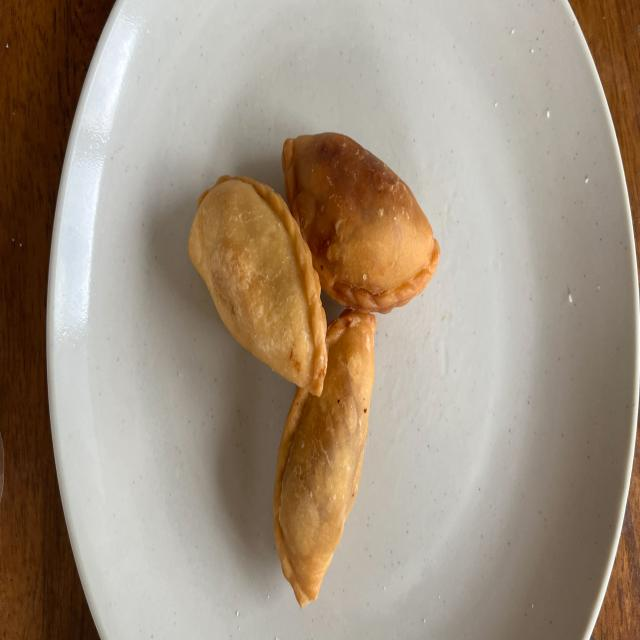karipap: (188, 176, 328, 396), (274, 311, 376, 607), (282, 133, 440, 313)
